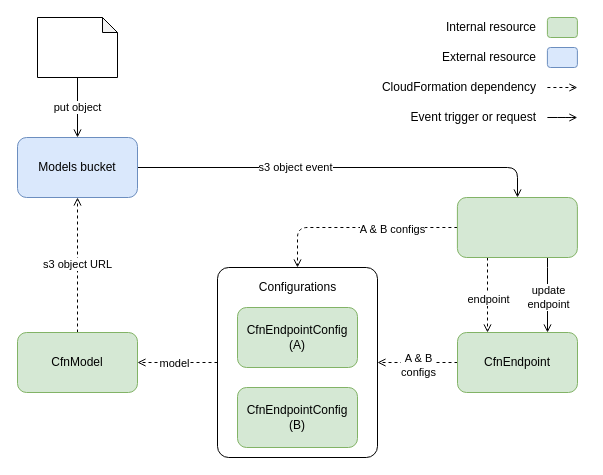
Some shapes in this 603 by 475 pixel diagram are drawn without their labels. Here are the shapes that lost their labels. From the top down, the centre of each, then its label:
the point at 77,47: New model.tar.gz
the point at 516,227: RefreshFunction
